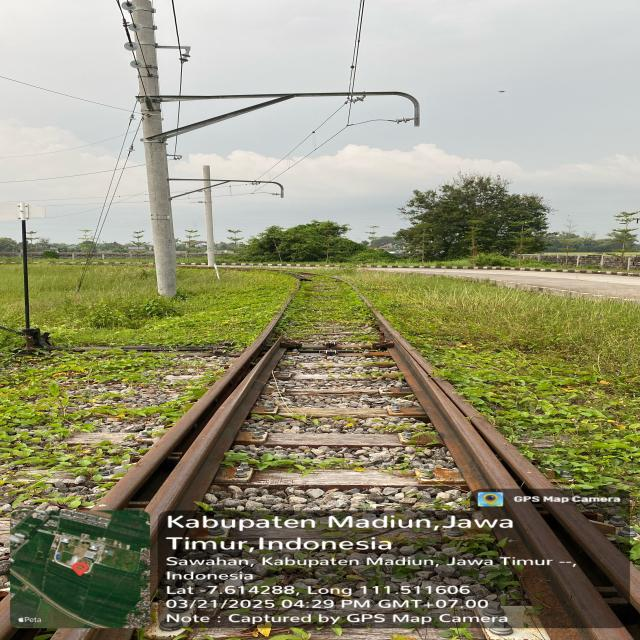rail-detection: (370, 307, 631, 640), (91, 316, 288, 601), (560, 499, 637, 602)
